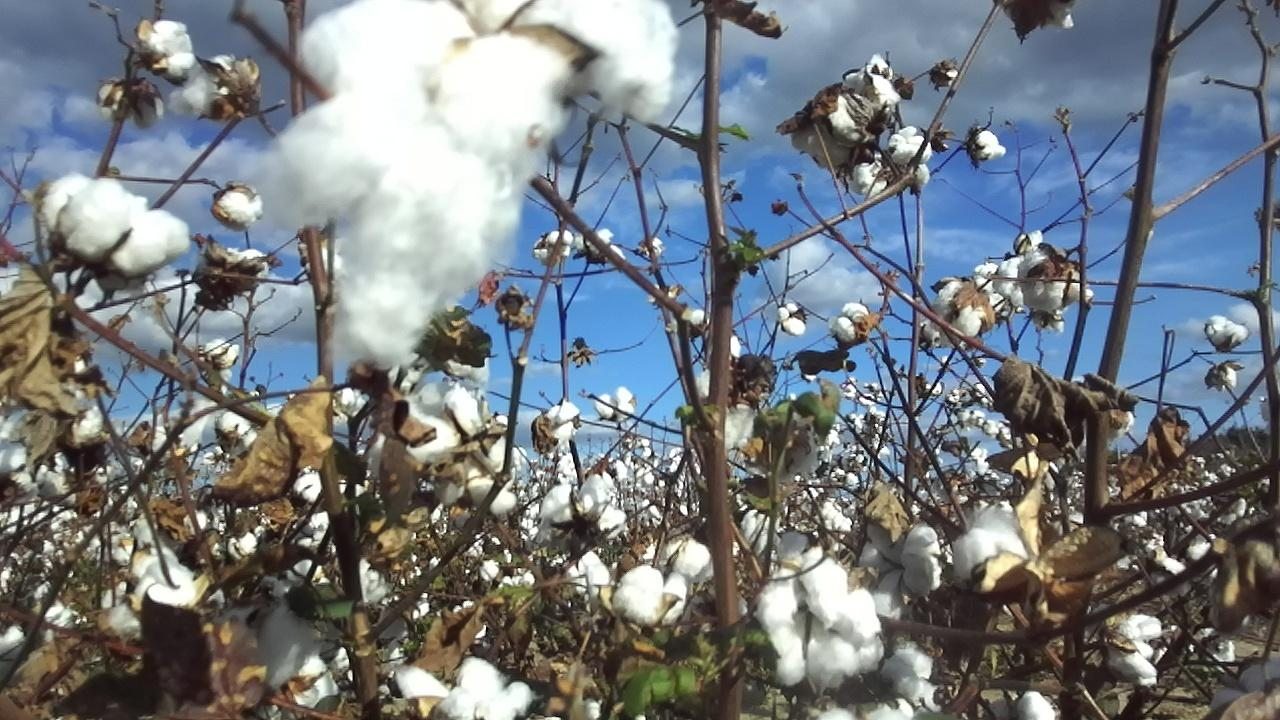cotton_ready: (252, 0, 676, 364), (757, 550, 882, 691), (44, 175, 187, 269), (0, 406, 99, 495), (395, 659, 539, 720), (852, 527, 944, 619), (812, 650, 932, 720), (233, 605, 320, 688), (105, 554, 199, 630), (401, 381, 484, 467), (435, 431, 519, 510), (948, 504, 1032, 581), (536, 483, 627, 540), (640, 538, 722, 599), (697, 370, 752, 450), (170, 54, 245, 112), (613, 569, 687, 627), (802, 94, 858, 169), (1104, 614, 1162, 686), (265, 667, 342, 720), (1022, 261, 1080, 317), (934, 282, 985, 337), (140, 20, 195, 70), (552, 554, 610, 599), (850, 74, 897, 129)
